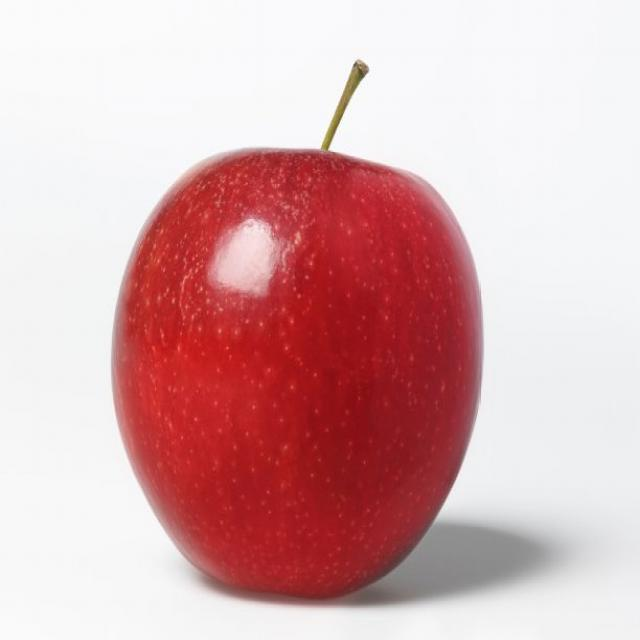Apple: (110, 53, 493, 603)
